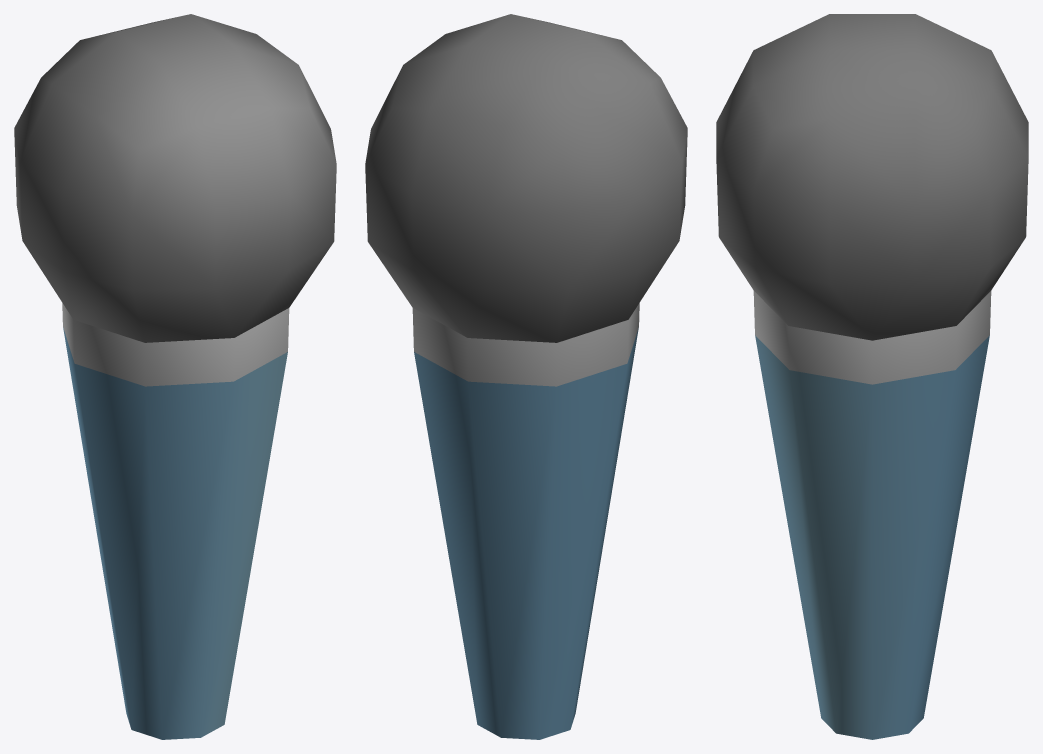
The model's file is Microphone_2.glb.
The picture shows the model from 3 angles, left to right: view 1: azimuth 30°, elevation 25°; view 2: azimuth 150°, elevation 25°; view 3: azimuth 270°, elevation 25°; orthographic projection.
Parts seen in each view (by area): view 1: Microphone; view 2: Microphone; view 3: Microphone.
Boxes of the visible parts, x1=… form: Microphone: x1=14, y1=14, x2=336, y2=739; Microphone: x1=365, y1=14, x2=687, y2=739; Microphone: x1=716, y1=14, x2=1028, y2=739.
Size of the model in its own units: 0.1135 by 0.2751 by 0.1135.
